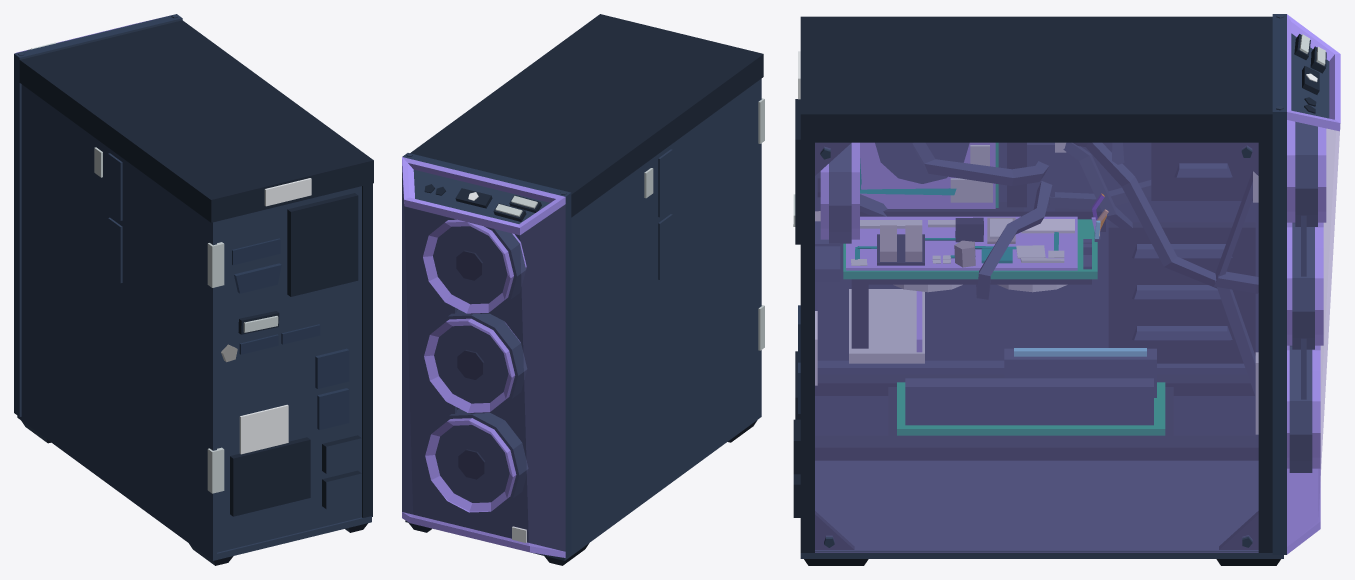
File: gpu_workstation.glb
3 views of the same model, side by side, from view 1: azimuth 30°, elevation 25°; view 2: azimuth 150°, elevation 25°; view 3: azimuth 270°, elevation 25° (orthographic). The views are drawn at different scales.
Visible parts, largest first — view 1: group1851977708, group706968164, group1179872976, group335831164, group1800416953, group997898928, group2083473735, group358629412, group1033487155, group172225094, group1693732898, group676590036 (+11 smaller); view 2: group1851977708, group549538436, group706968164, group997898928, group614062749, group1403192981, group1882511964, group1874588551, group358629412, group1050079147, group1247630253, group377627692; view 3: group1867655503, group706968164, group358629412, group1851977708, group549538436, group246477310, group148538432, group1586564780, group997898928, group289168744, group2083473735, group1186992705 (+39 smaller).
Part boxes in pixels (box(x1,y1,x2,y2)): group1851977708: box(21, 84, 216, 556); group706968164: box(19, 20, 373, 222); group1179872976: box(217, 186, 361, 552); group335831164: box(287, 193, 358, 296); group1800416953: box(230, 437, 310, 516); group997898928: box(14, 14, 182, 416); group2083473735: box(362, 183, 372, 517); group358629412: box(17, 415, 371, 560); group1033487155: box(239, 404, 288, 454); group172225094: box(322, 435, 361, 473); group1693732898: box(322, 470, 361, 508); group676590036: box(315, 348, 349, 388); group1851977708: box(571, 78, 761, 551); group549538436: box(402, 157, 565, 556); group706968164: box(410, 14, 763, 217); group997898928: box(402, 153, 571, 557); group614062749: box(424, 309, 527, 413); group1403192981: box(425, 409, 528, 512); group1882511964: box(423, 217, 526, 314); group1874588551: box(402, 512, 565, 557); group358629412: box(405, 411, 761, 560); group1050079147: box(658, 149, 672, 217); group1247630253: box(658, 214, 672, 279); group377627692: box(435, 290, 456, 426); group1867655503: box(815, 142, 1258, 552); group706968164: box(800, 16, 1272, 142); group358629412: box(800, 460, 1283, 558); group1851977708: box(815, 142, 1258, 435); group549538436: box(1287, 14, 1340, 551); group246477310: box(1108, 222, 1255, 363); group148538432: box(905, 379, 1153, 425); group1586564780: box(815, 435, 1258, 460); group997898928: box(1272, 14, 1286, 554); group289168744: box(1258, 142, 1272, 552); group2083473735: box(800, 142, 814, 552); group1186992705: box(846, 216, 1077, 270).
Bounding box in the file's own units: 0.6539 × 1.42 × 1.53.
